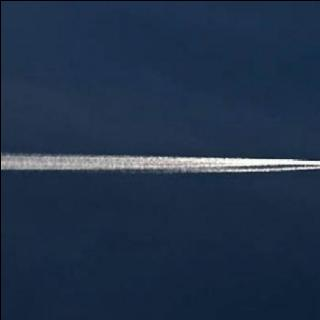Contrails: (0, 148, 320, 190)
